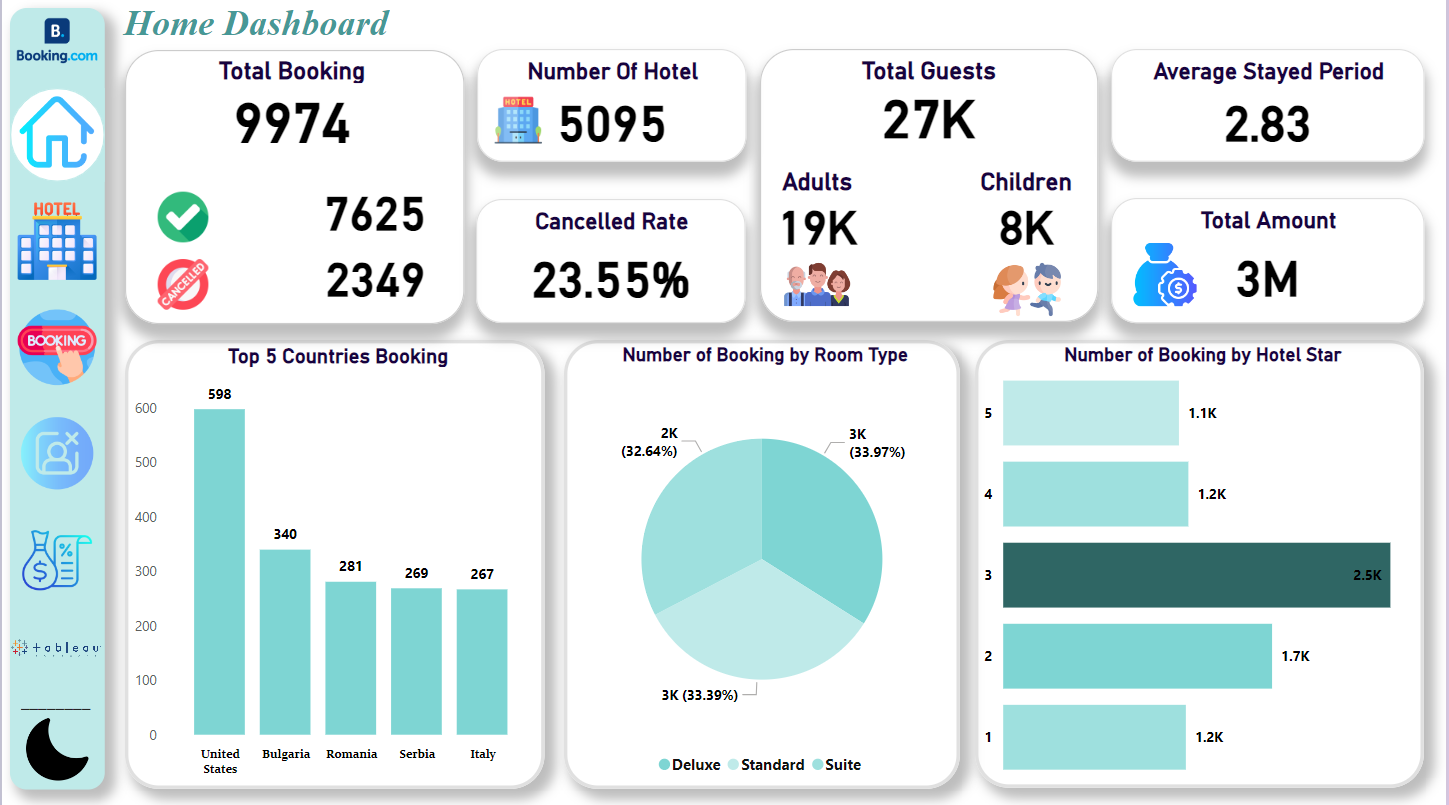

The page's visual inventory and layout, read from the dashboard file:
{"tool":"tableau","page":{"name":"Overview Dashboard","canvas":[1450,830],"ordinal":3},"visuals":[{"type":"image","param":"Image/OverView.jpg","box":[8,8,1434,814]},{"type":"image","param":"Image/choose.png","box":[87,29,47,39]},{"type":"text","box":[474,34,273,34]},{"type":"text","box":[62,72,100,30]},{"type":"worksheet","title":"Top 5 nationality( Guest) (3)","mark":"Pie","box":[848,89,564,364]},{"type":"image","param":"Image/hotel.png","box":[490,104,41,40]},{"type":"image","param":"Image/revenue.png","box":[684,104,43,41]},{"type":"image","param":"Image/booking.png","box":[299,105,38,43]},{"type":"worksheet","title":"Total Amount over Bookings (Booking) (2)","mark":"Automatic","box":[625,113,167,94]},{"type":"worksheet","title":"No. Hotels (Hotel) (2)","mark":"Automatic","box":[445,123,135,69]},{"type":"worksheet","title":"No. Booking (Booking) (2)","mark":"Automatic","box":[253,129,132,63]},{"type":"dashboard-object","box":[27,137,174,52]},{"type":"image","param":"Image/children.png","box":[681,211,52,49]},{"type":"worksheet","title":"Total Children(Booking) (2)","mark":"Automatic","box":[634,212,143,118]},{"type":"image","param":"Image/couple.png","box":[485,213,54,51]},{"type":"image","param":"Image/guests.png","box":[297,214,48,49]},{"type":"dashboard-object","box":[27,215,174,47]},{"type":"worksheet","title":"No. Guests (Guest) (2)","mark":"Automatic","box":[251,231,140,85]},{"type":"worksheet","title":"Total Audlts (Booking) (2)","mark":"Automatic","box":[432,234,162,79]},{"type":"dashboard-object","box":[27,291,174,47]},{"type":"image","param":"Image/schedule.png","box":[382,343,46,47]},{"type":"image","param":"Image/rating.png","box":[606,346,44,43]},{"type":"worksheet","title":"sum of total night (Booking) (2)","mark":"Automatic","box":[336,363,140,69]},{"type":"dashboard-object","box":[27,366,174,47]},{"type":"worksheet","title":"No. Reviews (Review) (2)","mark":"Automatic","box":[535,366,188,71]},{"type":"dashboard-object","box":[27,448,174,47]},{"type":"worksheet","title":"No. Booking By Reservation Source ","mark":"Pie","rows":["Calculation_673288202718617603","Calculation_673288202718617603"],"box":[858,459,548,351]},{"type":"worksheet","title":"Top Hotel Booked By Guests ","mark":"Automatic","rows":["hotel_name"],"cols":["Guest_id_BK"],"box":[246,463,537,336]},{"type":"blank","box":[51,521,123,2]},{"type":"text","box":[76,527,92,34]},{"type":"dashboard-object","box":[69,579,76,39]},{"type":"dashboard-object","box":[117,580,91,39]},{"type":"blank","box":[51,637,123,2]},{"type":"text","box":[47,645,144,25]},{"type":"image","param":"Image/Microsoft-Power-BI-Symbol.png","box":[74,685,77,62]}]}

Visuals, with their boxes on the page's 1450x830 design canvas (x1, y1, x2, y2). These are canvas units, not pixel positions in the 1449x805 screenshot, which may show the page scaled, cropped or inside an application window:
image: [8, 8, 1442, 822]
image: [87, 29, 134, 68]
text: [474, 34, 747, 68]
text: [62, 72, 162, 102]
"Top 5 nationality( Guest) (3)" worksheet (Pie marks): [848, 89, 1412, 453]
image: [490, 104, 531, 144]
image: [684, 104, 727, 145]
image: [299, 105, 337, 148]
"Total Amount over Bookings (Booking) (2)" worksheet: [625, 113, 792, 207]
"No. Hotels (Hotel) (2)" worksheet: [445, 123, 580, 192]
"No. Booking (Booking) (2)" worksheet: [253, 129, 385, 192]
dashboard-object: [27, 137, 201, 189]
image: [681, 211, 733, 260]
"Total Children(Booking) (2)" worksheet: [634, 212, 777, 330]
image: [485, 213, 539, 264]
image: [297, 214, 345, 263]
dashboard-object: [27, 215, 201, 262]
"No. Guests (Guest) (2)" worksheet: [251, 231, 391, 316]
"Total Audlts (Booking) (2)" worksheet: [432, 234, 594, 313]
dashboard-object: [27, 291, 201, 338]
image: [382, 343, 428, 390]
image: [606, 346, 650, 389]
"sum of total night (Booking) (2)" worksheet: [336, 363, 476, 432]
dashboard-object: [27, 366, 201, 413]
"No. Reviews (Review) (2)" worksheet: [535, 366, 723, 437]
dashboard-object: [27, 448, 201, 495]
"No. Booking By Reservation Source " worksheet (Pie marks): [858, 459, 1406, 810]
"Top Hotel Booked By Guests " worksheet: [246, 463, 783, 799]
blank: [51, 521, 174, 523]
text: [76, 527, 168, 561]
dashboard-object: [69, 579, 145, 618]
dashboard-object: [117, 580, 208, 619]
blank: [51, 637, 174, 639]
text: [47, 645, 191, 670]
image: [74, 685, 151, 747]
